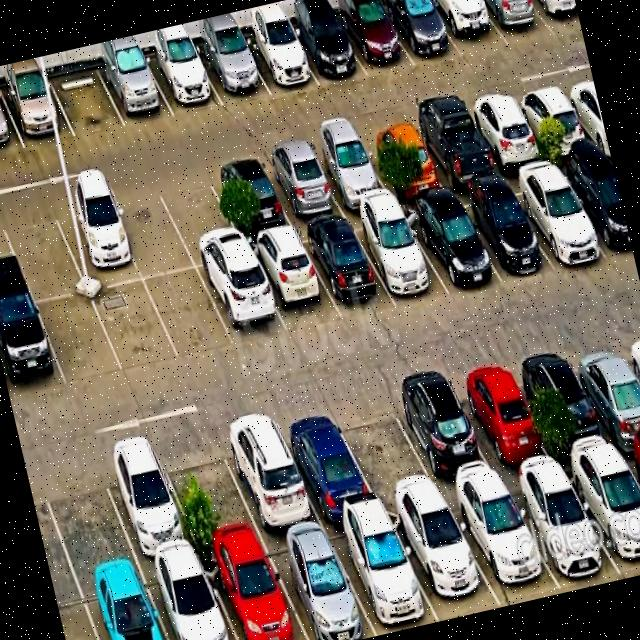empty: (154, 428, 262, 552), (329, 388, 441, 506), (35, 451, 137, 580), (155, 169, 247, 267), (106, 183, 195, 279), (90, 280, 180, 373), (0, 205, 86, 301), (144, 269, 234, 359), (36, 293, 123, 386), (48, 66, 125, 137)
occupied: (385, 372, 502, 496), (324, 511, 438, 635), (446, 483, 561, 605), (504, 470, 621, 589), (386, 499, 501, 620), (214, 409, 322, 537), (446, 358, 558, 481), (94, 439, 199, 564), (261, 527, 376, 640), (272, 402, 379, 522), (514, 343, 619, 465), (200, 540, 307, 640), (503, 166, 608, 267), (400, 197, 502, 295), (450, 184, 552, 281), (246, 231, 341, 334), (562, 453, 640, 578), (297, 219, 395, 318), (348, 208, 449, 303), (50, 194, 142, 291), (564, 334, 640, 451), (141, 554, 237, 640), (555, 155, 634, 259), (198, 258, 288, 345), (409, 109, 500, 190), (206, 157, 293, 240), (258, 146, 344, 225), (0, 299, 66, 400), (306, 135, 392, 212), (358, 122, 446, 197), (78, 567, 168, 640), (464, 95, 548, 171), (511, 84, 595, 158), (334, 1, 414, 76), (287, 15, 367, 85), (379, 0, 462, 66), (96, 57, 174, 127), (143, 48, 223, 116), (0, 77, 74, 148), (239, 28, 318, 94), (195, 39, 269, 105), (426, 0, 509, 58), (477, 0, 555, 45), (531, 0, 581, 34), (0, 91, 24, 153)
